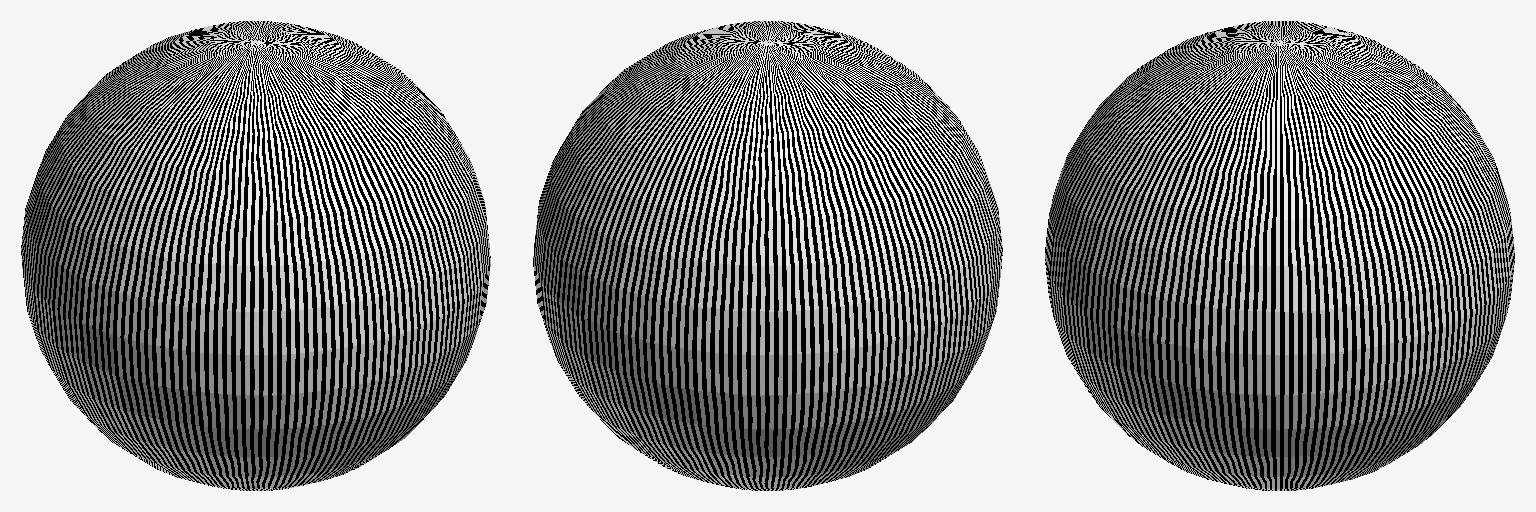
3 renders of one model, left to right at view 1: azimuth 30°, elevation 25°; view 2: azimuth 150°, elevation 25°; view 3: azimuth 270°, elevation 25°, orthographic.
Parts seen in each view (by area): view 1: Sphere; view 2: Sphere; view 3: Sphere.
Part boxes in pixels (left/top/right/bottom): Sphere: left=21, top=21, right=490, bottom=490; Sphere: left=533, top=21, right=1002, bottom=490; Sphere: left=1045, top=21, right=1514, bottom=490.
Size of the model in its own units: 1.65 by 1.65 by 1.65.
Materials: 1 (1 with a texture image).